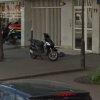Motorcycle: (22, 30, 65, 68)
